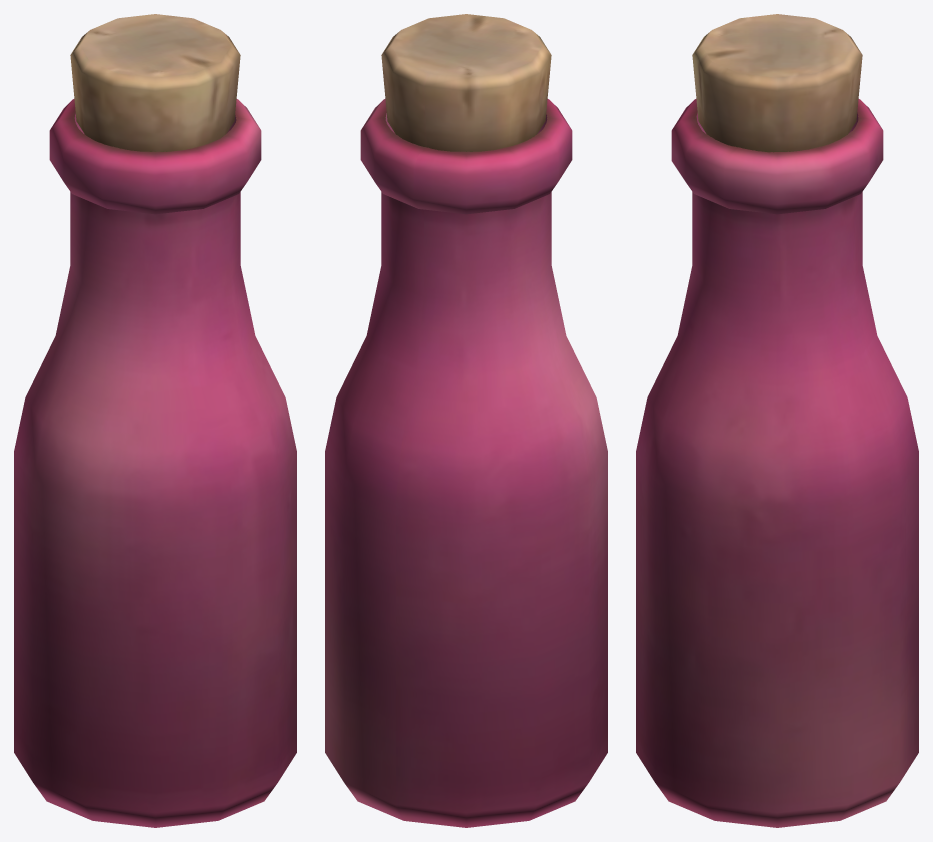
3 views of the same model, side by side, from view 1: azimuth 30°, elevation 25°; view 2: azimuth 150°, elevation 25°; view 3: azimuth 270°, elevation 25° (orthographic).
Visible parts, largest first — view 1: SM_Weak_Pink_Potion_LOD0; view 2: SM_Weak_Pink_Potion_LOD0; view 3: SM_Weak_Pink_Potion_LOD0.
Boxes of the visible parts, x1,y1,x2,y2 form: SM_Weak_Pink_Potion_LOD0: (14, 14, 296, 827); SM_Weak_Pink_Potion_LOD0: (325, 14, 607, 827); SM_Weak_Pink_Potion_LOD0: (636, 14, 918, 827).
Bounding box in the file's own units: 0.0834 × 0.2372 × 0.0834.
1 material, 1 textured.
